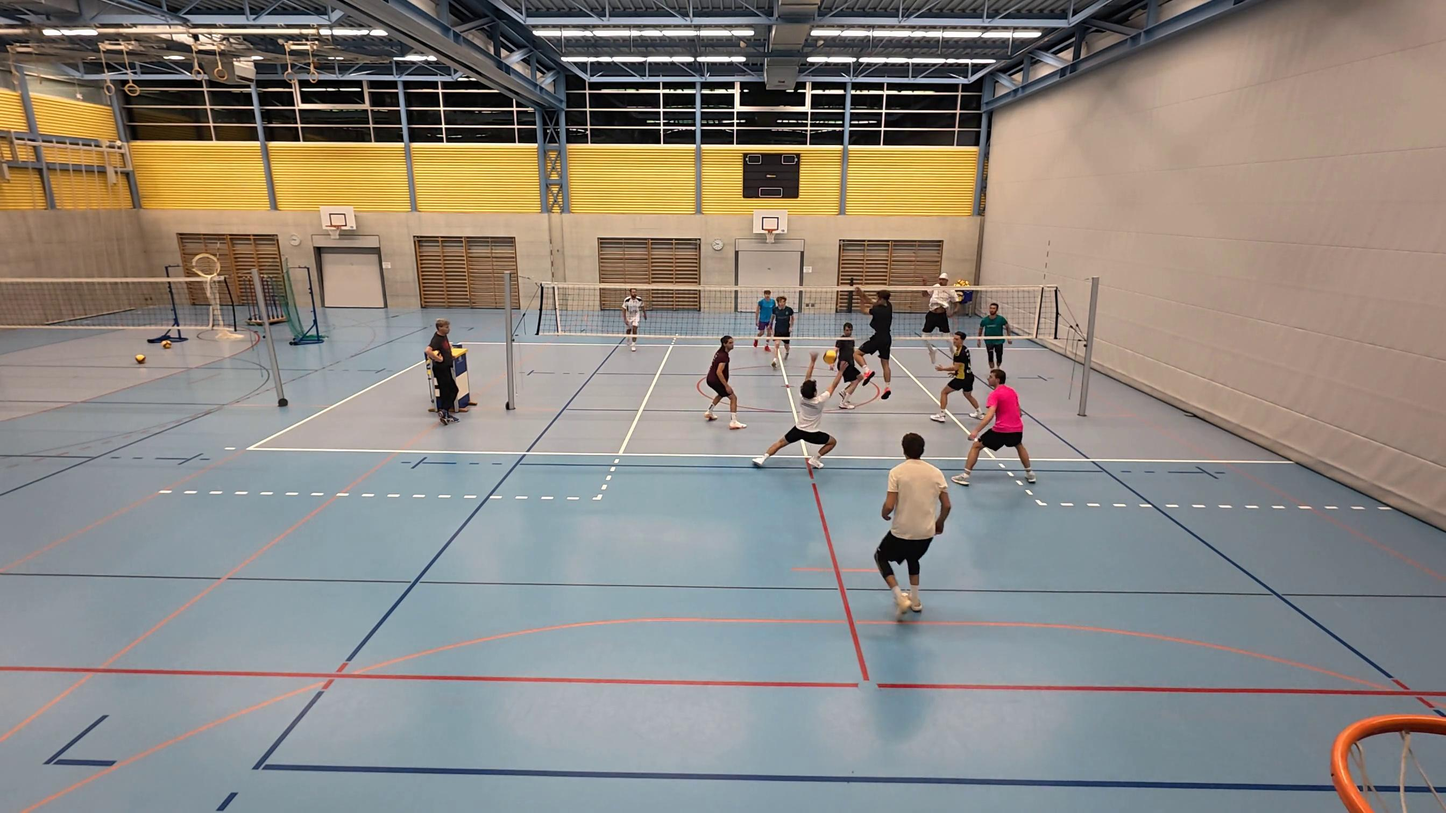Dig: (749, 350, 850, 472)
Player: (874, 432, 950, 616), (955, 368, 1033, 486), (851, 260, 901, 404), (931, 332, 985, 423), (701, 334, 745, 429), (825, 324, 873, 409), (917, 270, 957, 368), (975, 301, 1011, 378), (771, 292, 795, 367), (752, 289, 778, 355), (621, 290, 644, 350)
ball: (817, 350, 835, 365)
